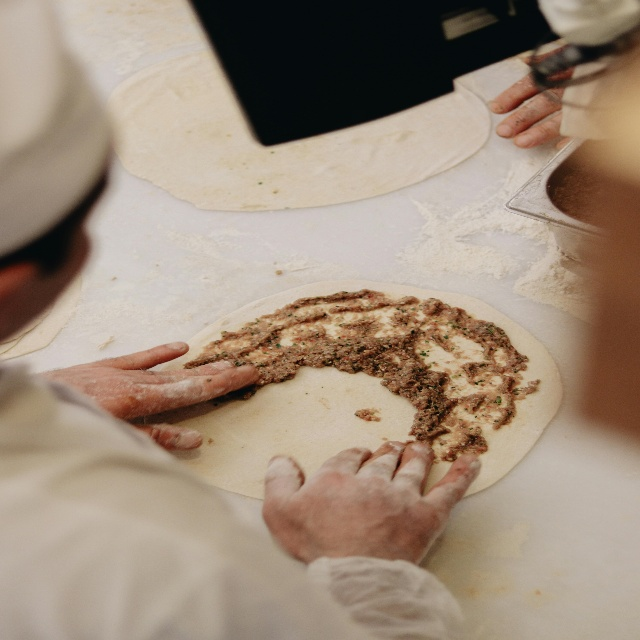Sin_guantes: (262, 439, 481, 565), (40, 340, 259, 452), (490, 50, 573, 150)
